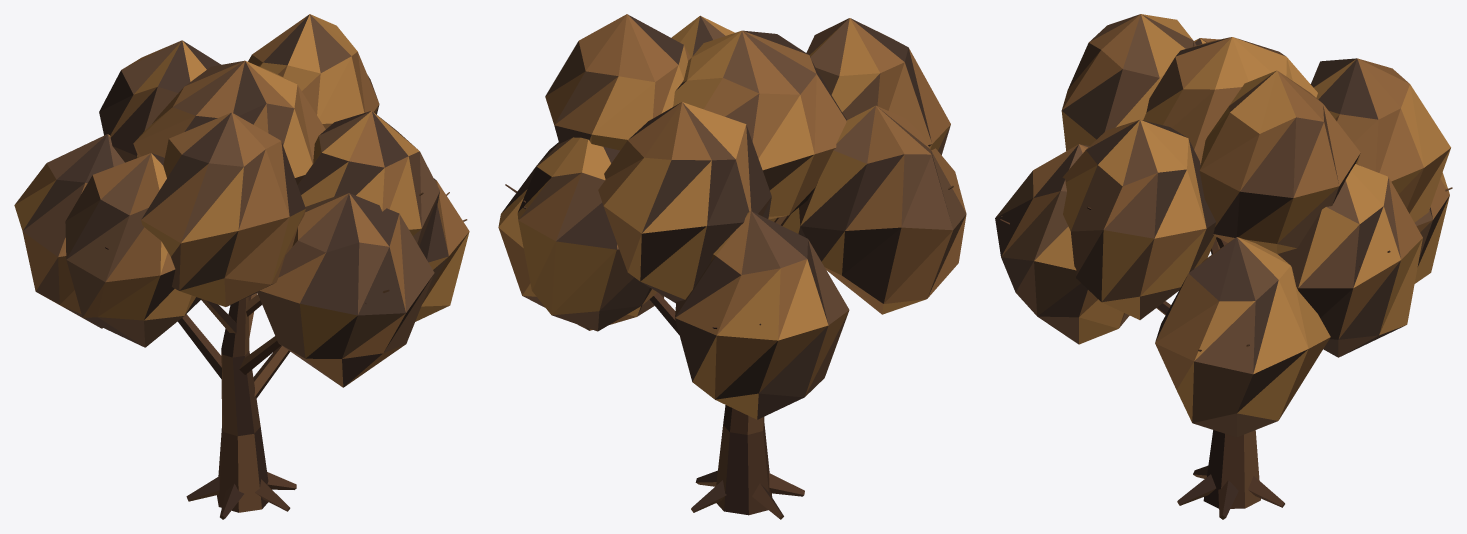
Rendered from tree_beech_copper.obj.
The picture shows the model from 3 angles, left to right: view 1: azimuth 30°, elevation 25°; view 2: azimuth 150°, elevation 25°; view 3: azimuth 270°, elevation 25°; orthographic projection. The views are drawn at different scales.
Visible parts, largest first — view 1: tree_beech_copper; view 2: tree_beech_copper; view 3: tree_beech_copper.
Boxes of the visible parts, <box> form: tree_beech_copper: <box>14,14,469,519</box>; tree_beech_copper: <box>498,14,966,519</box>; tree_beech_copper: <box>995,14,1452,519</box>.
Bounding box in the file's own units: 580 × 620 × 543.
Materials: 1 (1 with a texture image).
